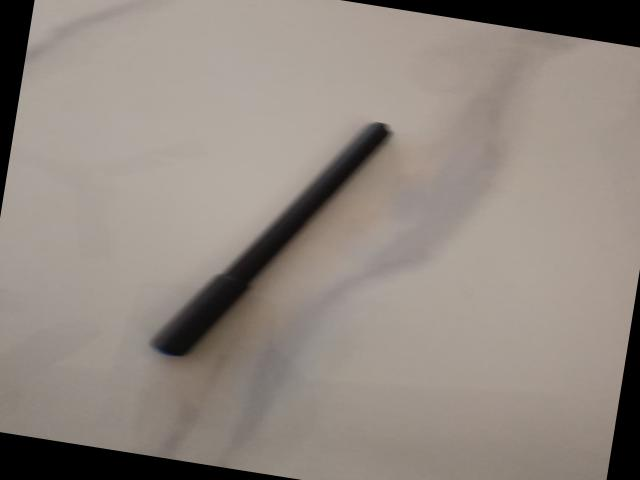PEN: (126, 101, 408, 382)
